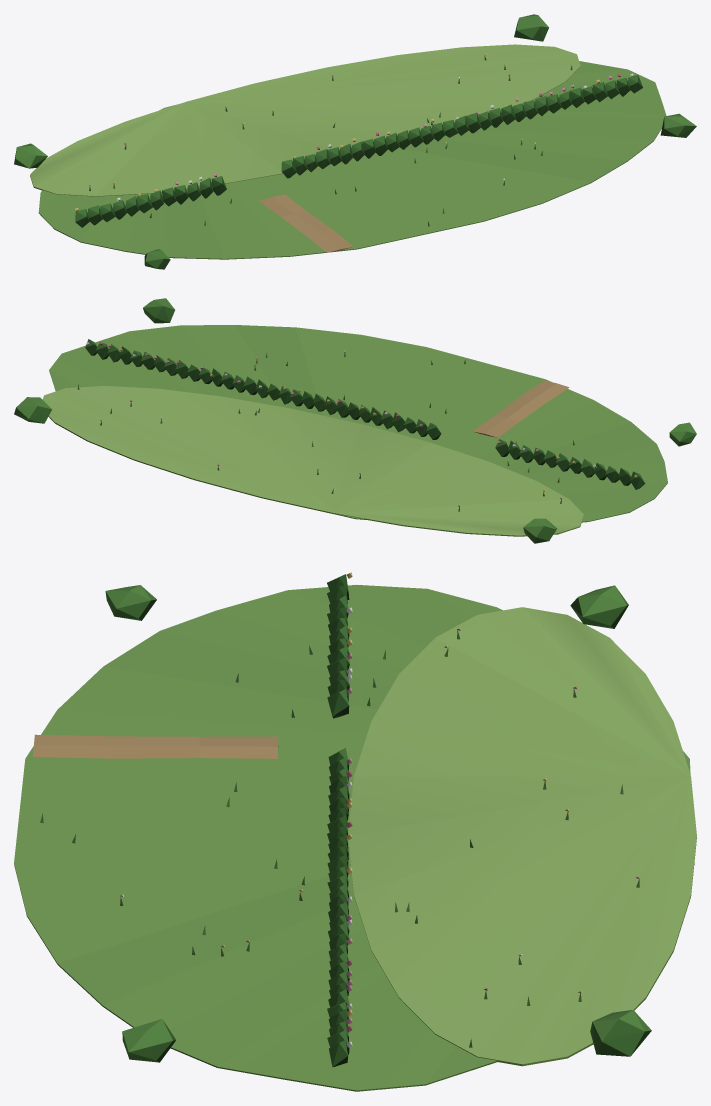
The model's file is weddingbase.glb.
3 views of the same model, one above another, from view 1: azimuth 30°, elevation 25°; view 2: azimuth 150°, elevation 25°; view 3: azimuth 270°, elevation 25° (orthographic). The views are drawn at different scales.
Parts seen in each view (by area): view 1: base; view 2: base; view 3: base.
Boxes of the visible parts, x1=… form: base: x1=14, y1=14, x2=696, y2=269; base: x1=14, y1=298, x2=696, y2=543; base: x1=14, y1=572, x2=696, y2=1091.
Bounding box in the file's own units: 6.86 × 0.2653 × 3.91.
